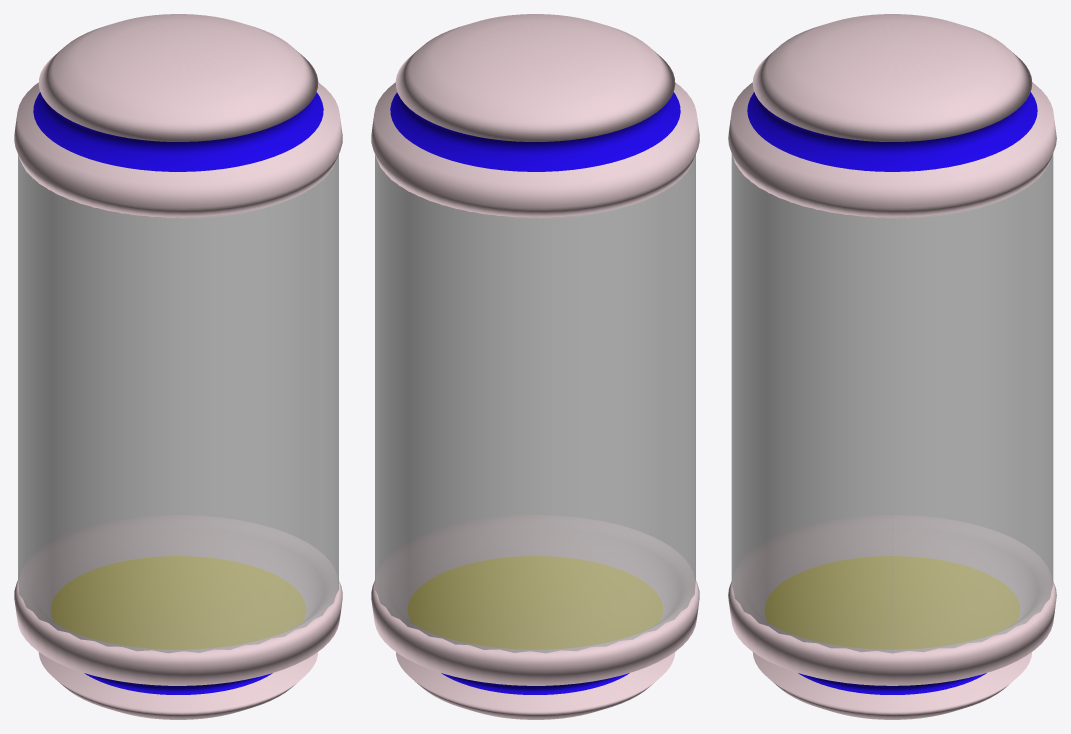
File: Teleport.fbx
The picture shows the model from 3 angles, left to right: view 1: azimuth 30°, elevation 25°; view 2: azimuth 150°, elevation 25°; view 3: azimuth 270°, elevation 25°; orthographic projection.
Visible parts, largest first — view 1: Circle, Cylinder.001, Cylinder; view 2: Circle, Cylinder.001, Cylinder; view 3: Circle, Cylinder.001, Cylinder.
Boxes of the visible parts, left/top/right/bottom form: Circle: left=18, top=155, right=338, bottom=653; Cylinder.001: left=14, top=14, right=342, bottom=218; Cylinder: left=14, top=515, right=342, bottom=719; Circle: left=375, top=155, right=695, bottom=653; Cylinder.001: left=371, top=14, right=699, bottom=218; Cylinder: left=371, top=515, right=699, bottom=719; Circle: left=731, top=154, right=1053, bottom=653; Cylinder.001: left=728, top=14, right=1056, bottom=218; Cylinder: left=728, top=515, right=1056, bottom=719.
Size of the model in its own units: 197 by 426 by 197.
